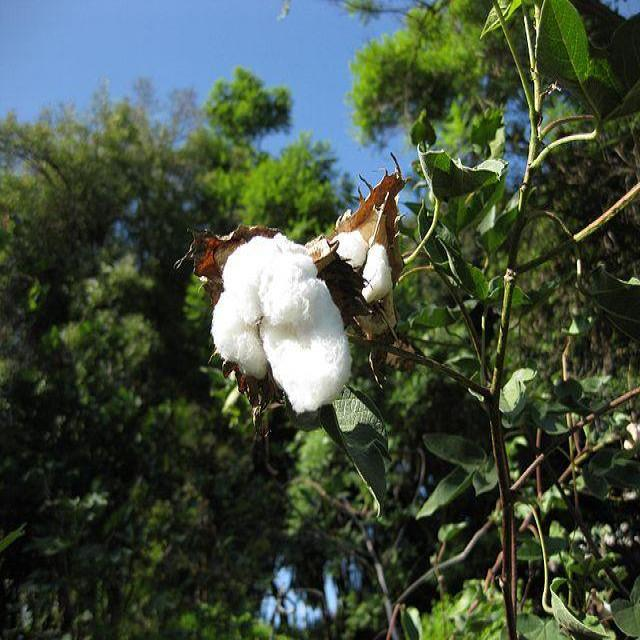Late_blight: (192, 222, 398, 416)
